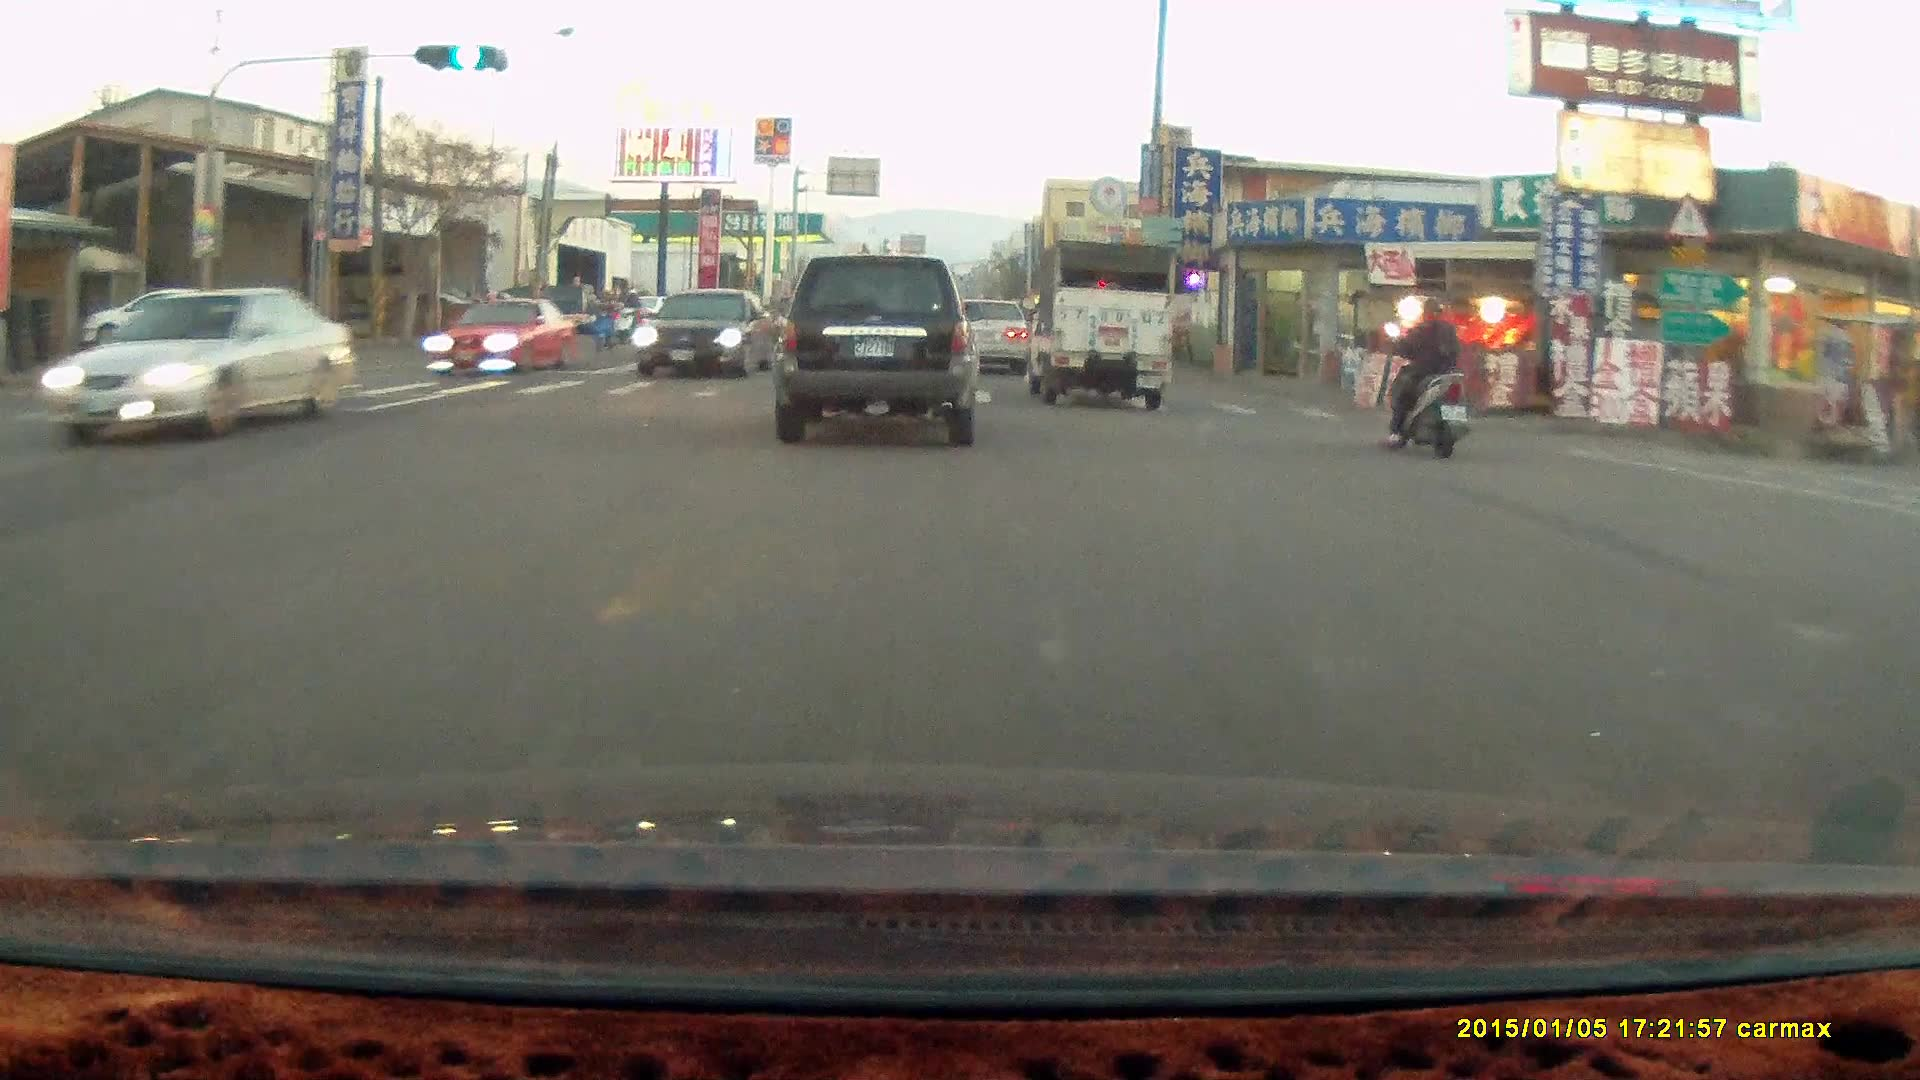rider: (1380, 281, 1468, 445), (586, 289, 623, 347), (613, 285, 649, 341)
vehicle: (29, 286, 357, 458), (770, 254, 983, 448), (1019, 238, 1173, 410), (632, 288, 784, 383), (426, 294, 578, 375), (83, 288, 247, 355), (947, 298, 1032, 379), (942, 296, 1029, 375)
